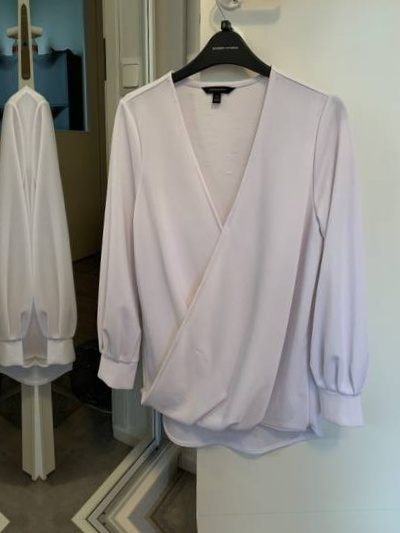Blouse: (85, 27, 391, 456)
